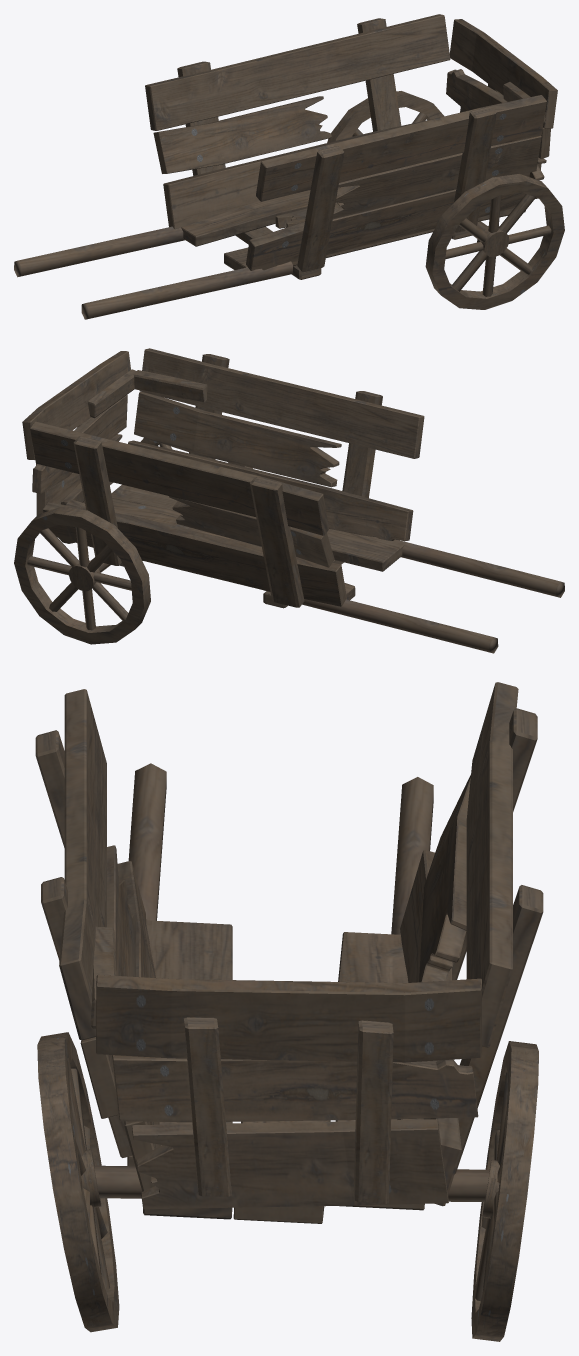
File: Cart.fbx
3 views of the same model, one above another, from view 1: azimuth 30°, elevation 25°; view 2: azimuth 150°, elevation 25°; view 3: azimuth 270°, elevation 25° (orthographic). The views are drawn at different scales.
Visible parts, largest first — view 1: polySurface44; view 2: polySurface44; view 3: polySurface44.
Boxes of the visible parts, x1=… form: polySurface44: x1=14, y1=14, x2=564, y2=319; polySurface44: x1=14, y1=348, x2=564, y2=653; polySurface44: x1=35, y1=682, x2=543, y2=1341.
Size of the model in its own units: 180 by 77.47 by 84.14.
